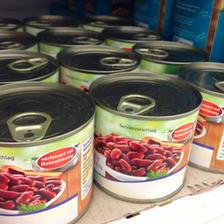Bohnen: (92, 70, 200, 198), (0, 81, 92, 224)
